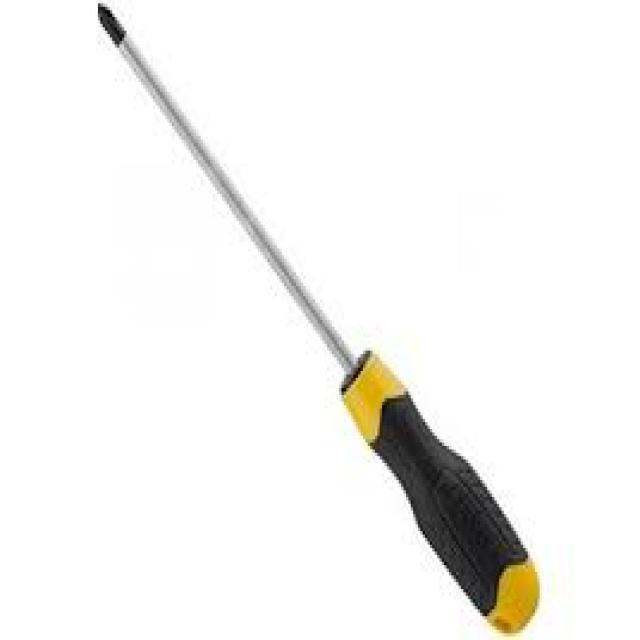screwdriver: (94, 0, 541, 640)
